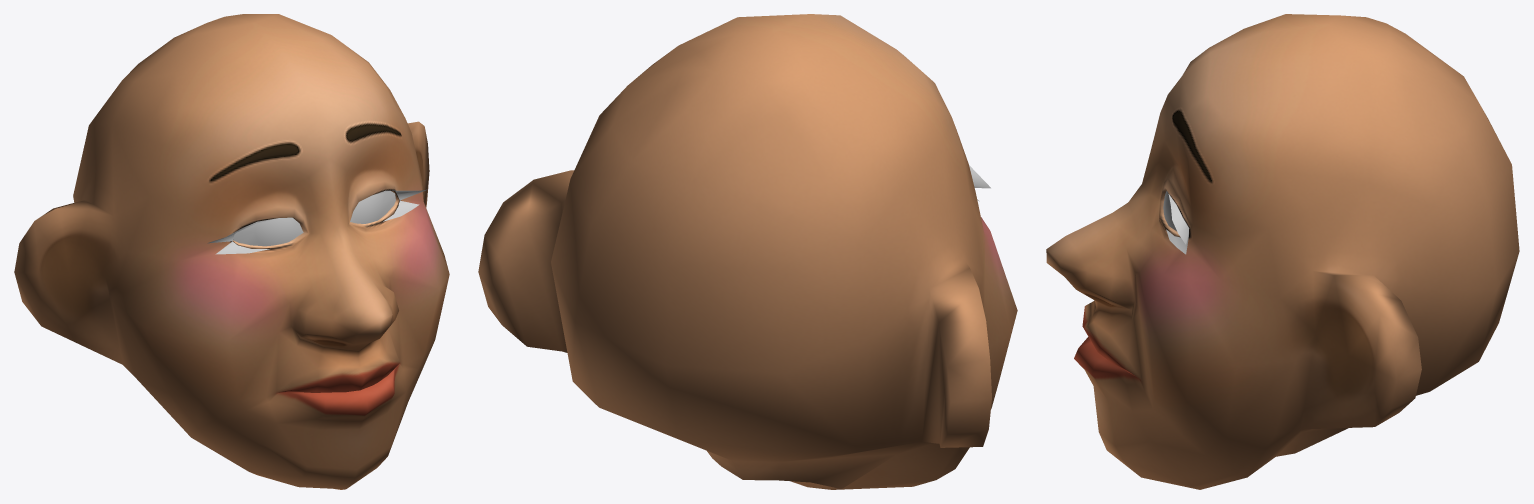
Rendered from F_sitpose04.fbx.
3 views of the same model, side by side, from view 1: azimuth 30°, elevation 25°; view 2: azimuth 150°, elevation 25°; view 3: azimuth 270°, elevation 25° (orthographic). The views are drawn at different scales.
Parts seen in each view (by area): view 1: HEAD; view 2: HEAD; view 3: HEAD.
Boxes of the visible parts, <box> form: HEAD: <box>14,14,449,489</box>; HEAD: <box>478,14,1017,489</box>; HEAD: <box>1046,14,1519,489</box>.
Bounding box in the file's own units: 27.45 × 25.51 × 24.63.
